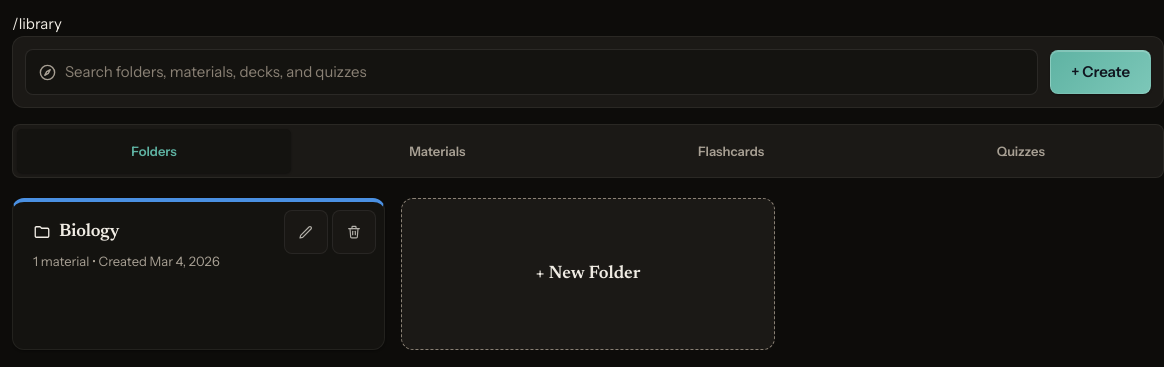
Test: LibraryView shell › keeps deck and quiz queries lazy until the student starts searching
The width and height of the screenshot is (1164, 367).
Expected: the heading "Biology" is shown, x1=33 y1=222 x2=119 y2=243
In the search field named "Search your library": (545, 72) x1=65 y1=50 x2=1025 y2=94, type "mitosis"
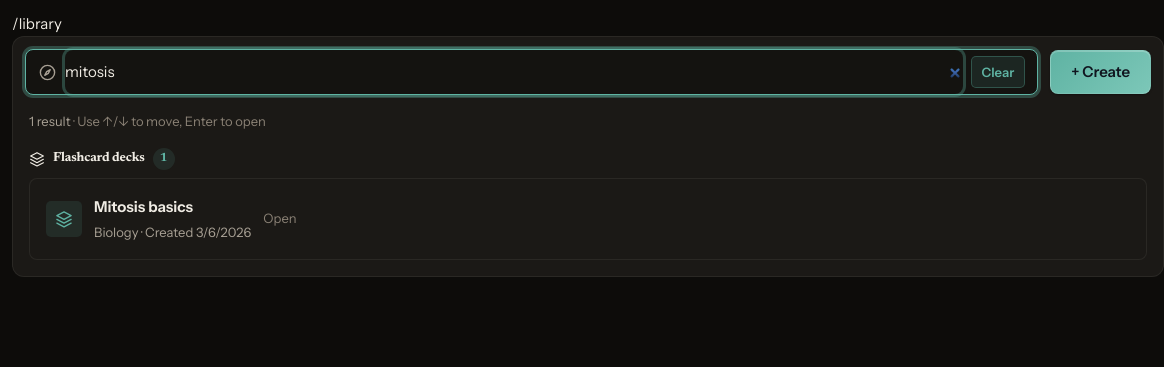
Now the text "Mitosis basics" is shown, box x1=94 y1=197 x2=193 y2=216
Click the button with aria-label "Clear library search": click(998, 72) x1=970 y1=56 x2=1025 y2=88
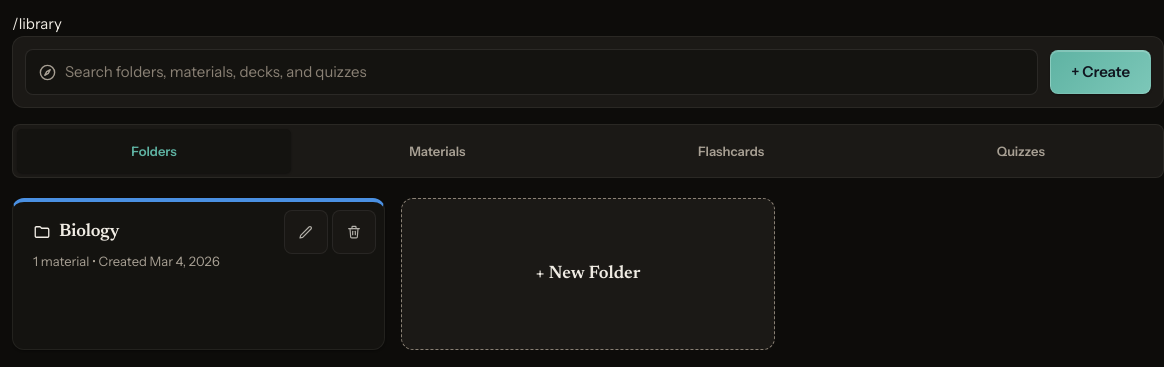
Now the element showing "Folders Materials Flashcards Quizzes" is shown, box x1=12 y1=124 x2=1163 y2=178
